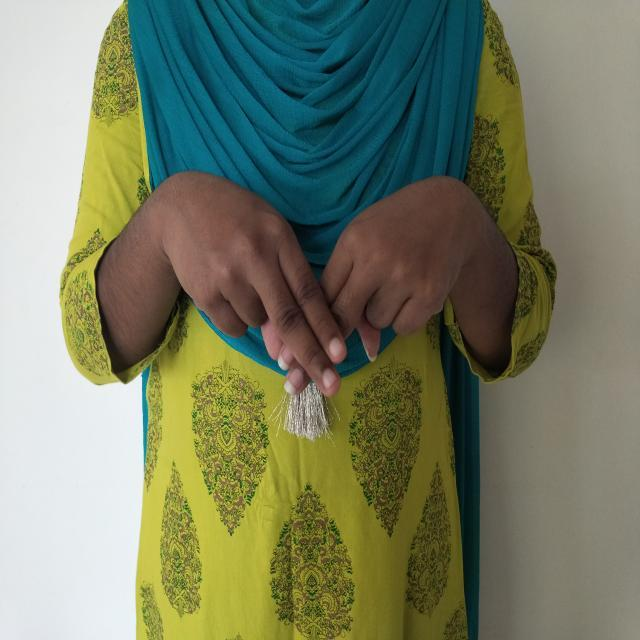F: (149, 167, 490, 408)
